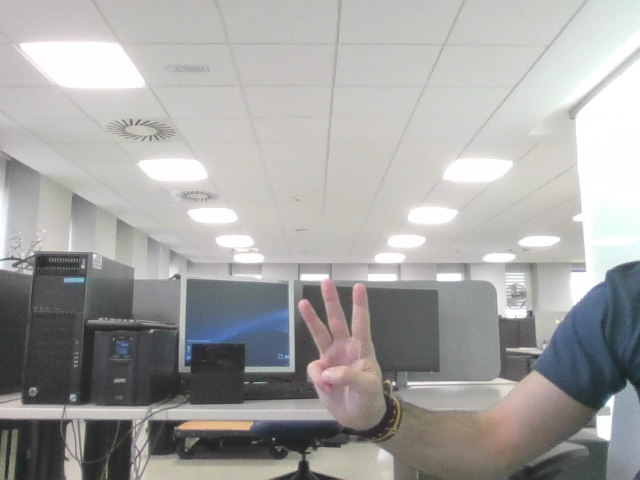3Dedos: (308, 291, 367, 399)
